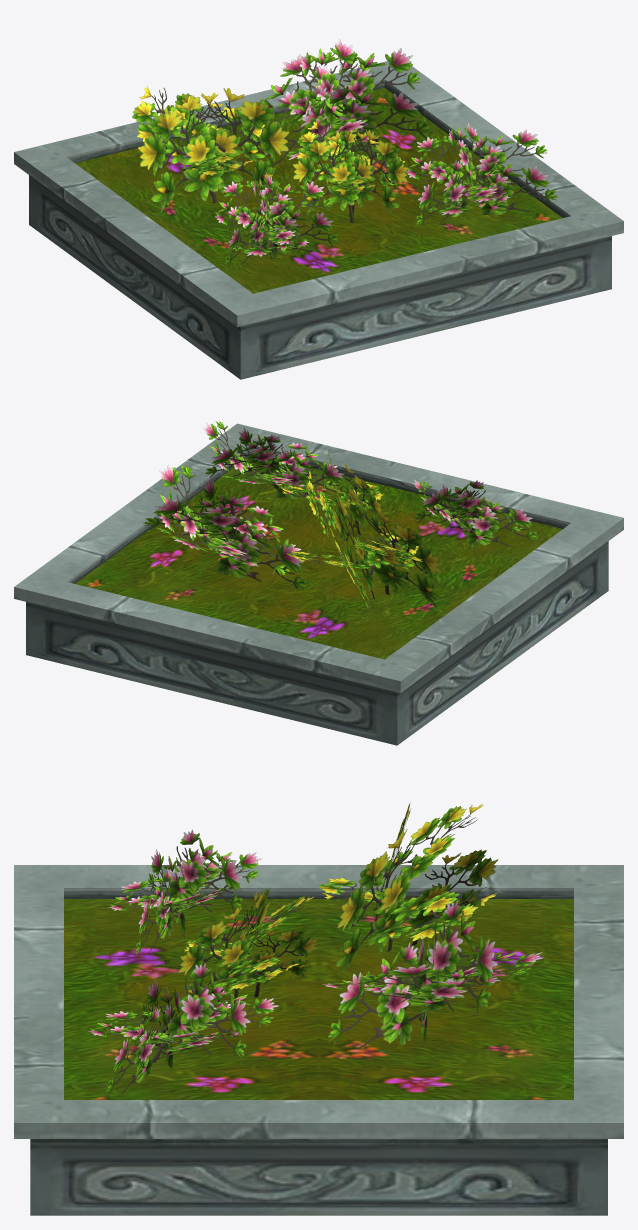
File: szc_object_huatanf.FBX
The picture shows the model from 3 angles, top to bottom: view 1: azimuth 30°, elevation 25°; view 2: azimuth 150°, elevation 25°; view 3: azimuth 270°, elevation 25°; orthographic projection. The views are drawn at different scales.
Parts seen in each view (by area): view 1: szc_object_14a_huatanf, szc_object_huatanf_hua; view 2: szc_object_14a_huatanf, szc_object_huatanf_hua; view 3: szc_object_14a_huatanf, szc_object_huatanf_hua.
Boxes of the visible parts, x1=… form: szc_object_14a_huatanf: x1=14, y1=61, x2=623, y2=379; szc_object_huatanf_hua: x1=132, y1=39, x2=557, y2=268; szc_object_14a_huatanf: x1=14, y1=423, x2=623, y2=745; szc_object_huatanf_hua: x1=143, y1=421, x2=538, y2=613; szc_object_14a_huatanf: x1=14, y1=865, x2=623, y2=1215; szc_object_huatanf_hua: x1=88, y1=802, x2=543, y2=1098.
Size of the model in its own units: 62.67 by 26.3 by 62.67.
